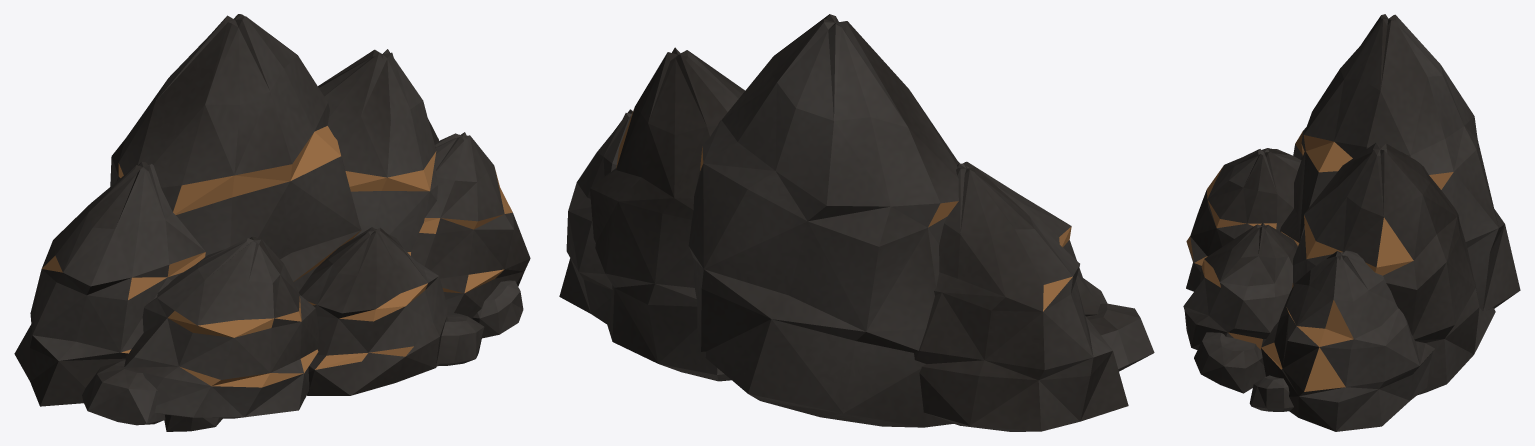
Rendered from DenseMineral_Deposit_A.glb.
3 views of the same model, side by side, from view 1: azimuth 30°, elevation 25°; view 2: azimuth 150°, elevation 25°; view 3: azimuth 270°, elevation 25° (orthographic). The views are drawn at different scales.
Parts seen in each view (by area): view 1: DenseMineral_Deposit_A_LOD0; view 2: DenseMineral_Deposit_A_LOD0; view 3: DenseMineral_Deposit_A_LOD0.
Boxes of the visible parts, bbox=[...] form: DenseMineral_Deposit_A_LOD0: bbox=[14, 14, 530, 431]; DenseMineral_Deposit_A_LOD0: bbox=[559, 14, 1154, 431]; DenseMineral_Deposit_A_LOD0: bbox=[1183, 14, 1520, 431].
Size of what is drawn, in the model's own units: 3.92 by 2.56 by 2.47.
2 materials, 1 textured.
